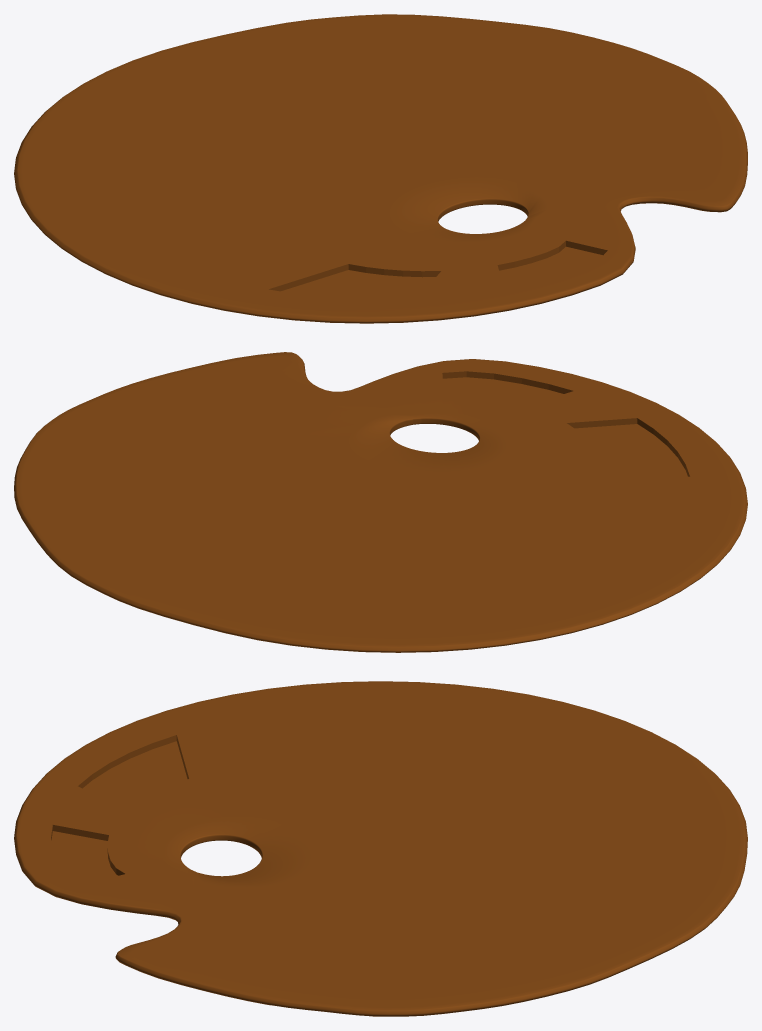
The model's file is BuildingPallet.FBX.
3 views of the same model, one above another, from view 1: azimuth 30°, elevation 25°; view 2: azimuth 150°, elevation 25°; view 3: azimuth 270°, elevation 25° (orthographic). The views are drawn at different scales.
Parts seen in each view (by area): view 1: BuildingPallet; view 2: BuildingPallet; view 3: BuildingPallet.
Part boxes in pixels (x1=…): BuildingPallet: x1=14, y1=14, x2=747, y2=323; BuildingPallet: x1=14, y1=352, x2=747, y2=652; BuildingPallet: x1=14, y1=681, x2=747, y2=1016.
Size of the model in its own units: 5360 by 49.85 by 5010.
